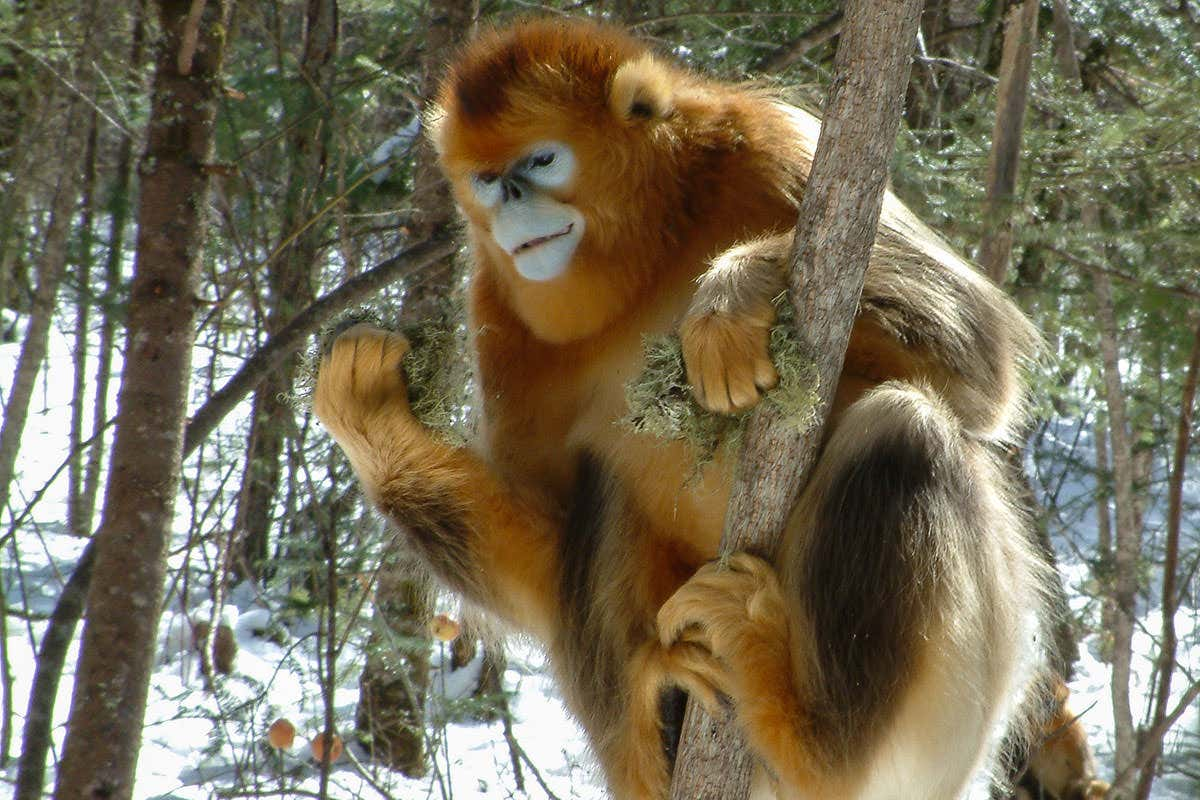GoldenSnub-Nosed: (399, 47, 1031, 761)
